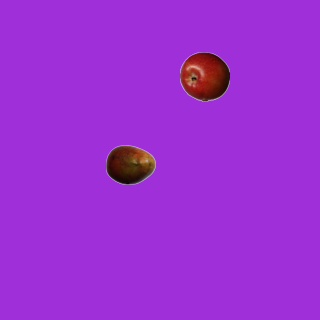Apple Braeburn: (179, 51, 229, 101)
Mango Red: (105, 139, 155, 189)
